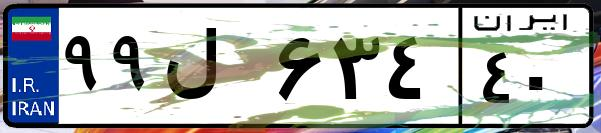0: (525, 38, 570, 115)
3: (330, 28, 385, 110)
4: (385, 28, 445, 110), (475, 38, 525, 113)
6: (270, 28, 330, 110)
9: (57, 26, 110, 100), (110, 28, 158, 98)
ل: (158, 20, 270, 120)
